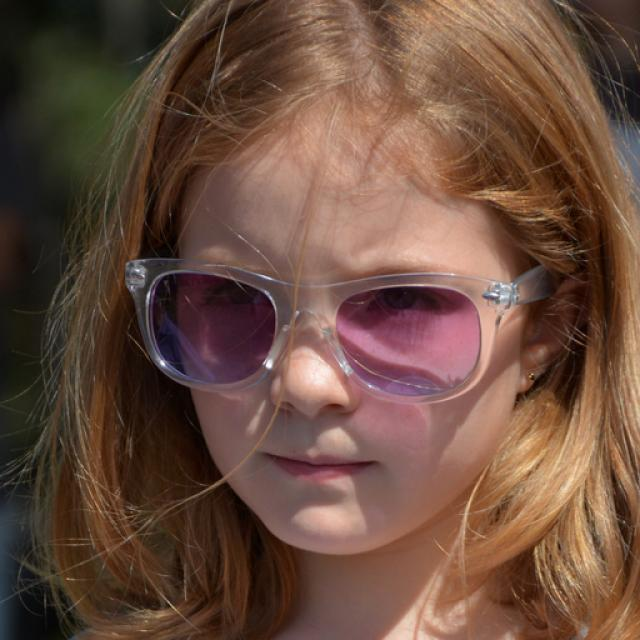anger: (166, 140, 524, 559)
